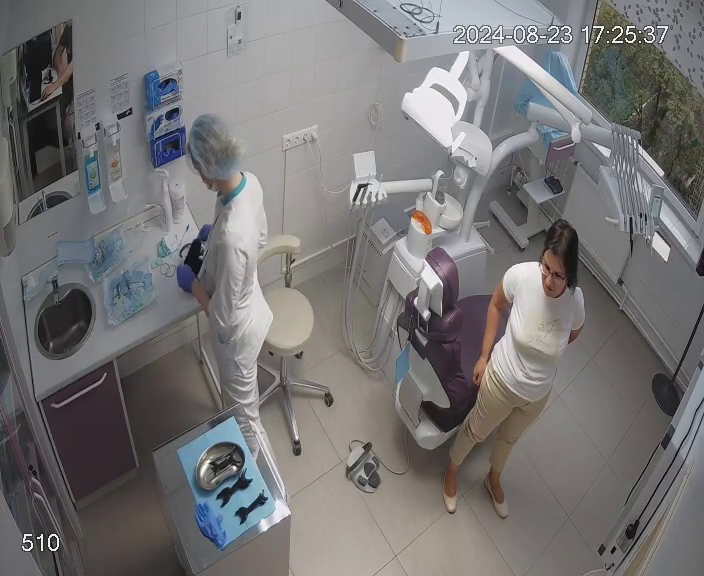Empty: (382, 251, 521, 450)
